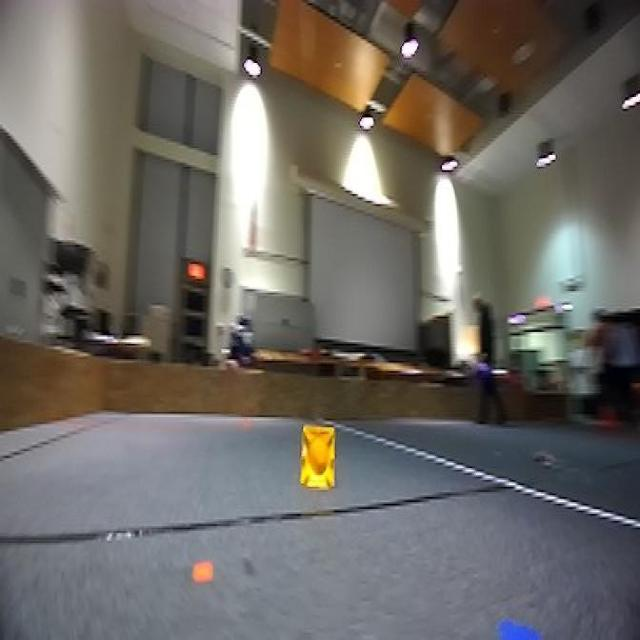frc_cone: (294, 419, 344, 495)
